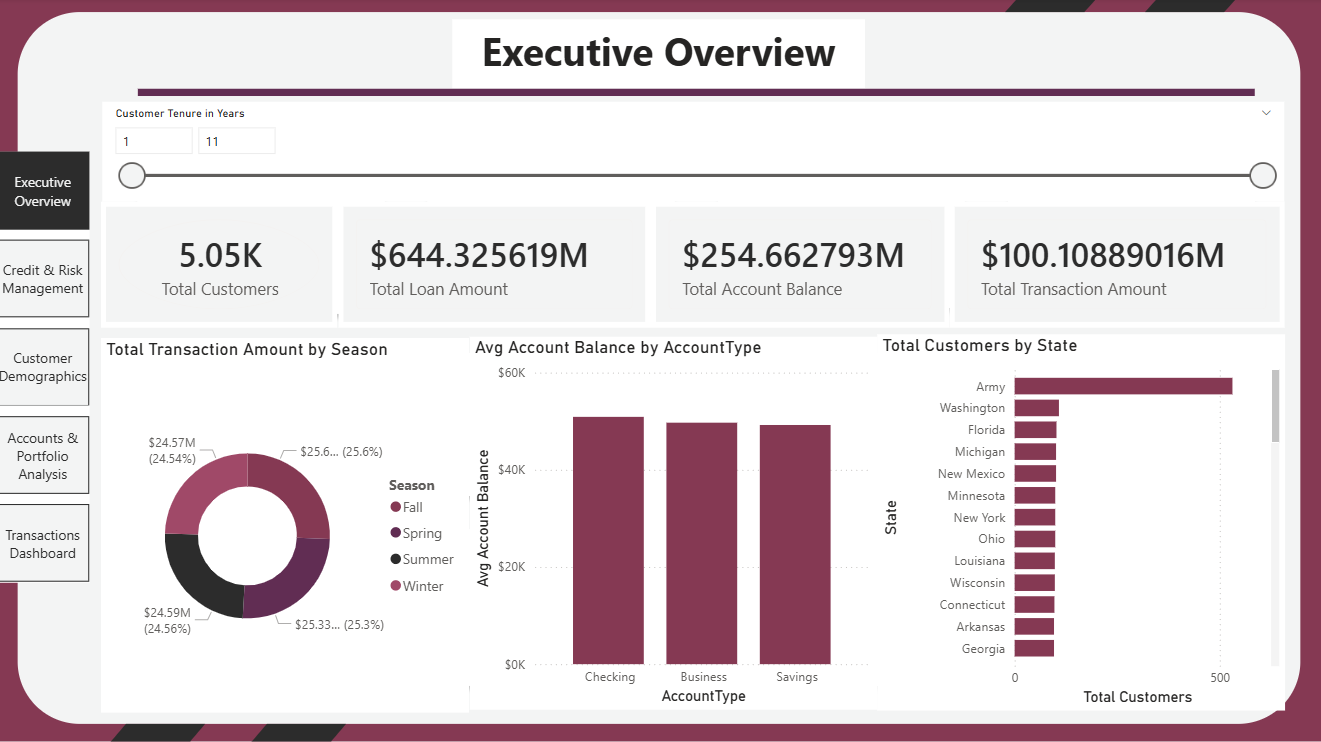

Layout of this report page (visuals, bound fields, positions):
{"tool":"powerbi","page":{"name":"Executive Overview","canvas":[1280,720],"ordinal":0},"visuals":[{"type":"textbox","box":[440,20,398,66],"z":0},{"type":"cardVisual","fields":{"Data":["_Measures.Total Customers"]},"box":[101.7,196.7,228.3,121.7],"z":1000},{"type":"cardVisual","fields":{"Data":["_Measures.Total Loan Amount"]},"box":[330,196.7,301.7,121.7],"z":2000},{"type":"cardVisual","fields":{"Data":["_Measures.Total Transaction Amount"]},"box":[920,196.7,323.3,121.7],"z":3000},{"type":"cardVisual","fields":{"Data":["_Measures.Total Account Balance"]},"box":[631.7,196.7,288.3,121.7],"z":4000},{"type":"clusteredBarChart","fields":{"Category":["customers - customers.State"],"Y":["_Measures.Total Customers"]},"box":[850,325,393.3,363.3],"z":5000},{"type":"clusteredColumnChart","fields":{"Y":["_Measures.Avg Account Balance"],"Category":["Accounts.AccountType"]},"box":[456.7,326.7,393.3,360],"z":6000},{"type":"donutChart","fields":{"Category":["Banking_Analytics_Transactions_Updated - Banking_Analytics_Transactions_Updated.Season"],"Y":["_Measures.Total Transaction Amount"]},"box":[101.7,328.3,355,361.7],"z":7000},{"type":"slicer","fields":{"Values":["customers - customers.Customer Tenure in Years"]},"box":[102.1,100.6,1141.2,96.2],"z":8000},{"type":"pageNavigator","box":[0,148,90.3,415.9],"z":9000}]}

Visuals, with their boxes in screenshot pixels (x1, y1, x2, y2), scaled from the page's 1280x720 canvas onto the 1321x742 screenshot:
textbox: Rect(454, 21, 865, 89)
cardVisual - _Measures.Total Customers: Rect(105, 203, 341, 328)
cardVisual - _Measures.Total Loan Amount: Rect(341, 203, 652, 328)
cardVisual - _Measures.Total Transaction Amount: Rect(949, 203, 1283, 328)
cardVisual - _Measures.Total Account Balance: Rect(652, 203, 949, 328)
clusteredBarChart - customers - customers.State x _Measures.Total Customers: Rect(877, 335, 1283, 709)
clusteredColumnChart - _Measures.Avg Account Balance x Accounts.AccountType: Rect(471, 337, 877, 708)
donutChart - Banking_Analytics_Transactions_Updated - Banking_Analytics_Transactions_Updated.Season x _Measures.Total Transaction Amount: Rect(105, 338, 471, 711)
slicer - customers - customers.Customer Tenure in Years: Rect(105, 104, 1283, 203)
pageNavigator: Rect(0, 153, 93, 581)
